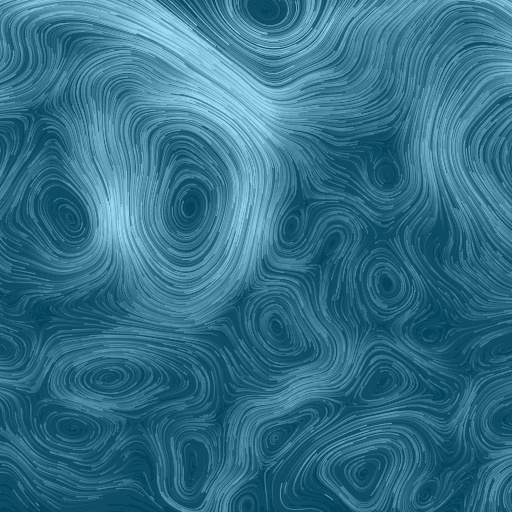eddy: (125, 122, 251, 278), (320, 437, 404, 507), (39, 179, 99, 257), (69, 353, 150, 402), (169, 428, 222, 499), (361, 254, 416, 315), (39, 411, 105, 448), (256, 414, 304, 461), (362, 360, 411, 405), (256, 302, 300, 349), (413, 315, 454, 350), (277, 206, 308, 250), (369, 154, 406, 189), (319, 224, 352, 262), (411, 473, 444, 509)
